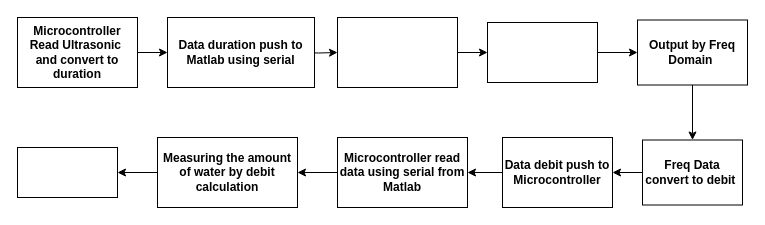
The diagram is 765 pixels wide and 225 high, and some of its shapes have lost their labels. Each missing label, with the centre of its shape:
"Data Input From Microcontroller by duration wave" goes at point 397,52.
"Water Debit" goes at point 67,172.
"Wave Input process on FFT to Freq Domain" goes at point 542,52.
